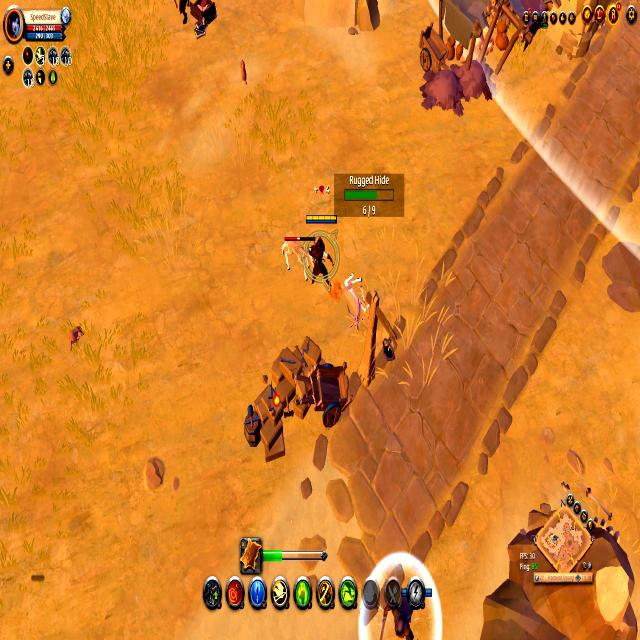mob: (341, 270, 369, 327)
ore: (281, 230, 312, 271)
red: (378, 584, 435, 640), (304, 211, 336, 284)
